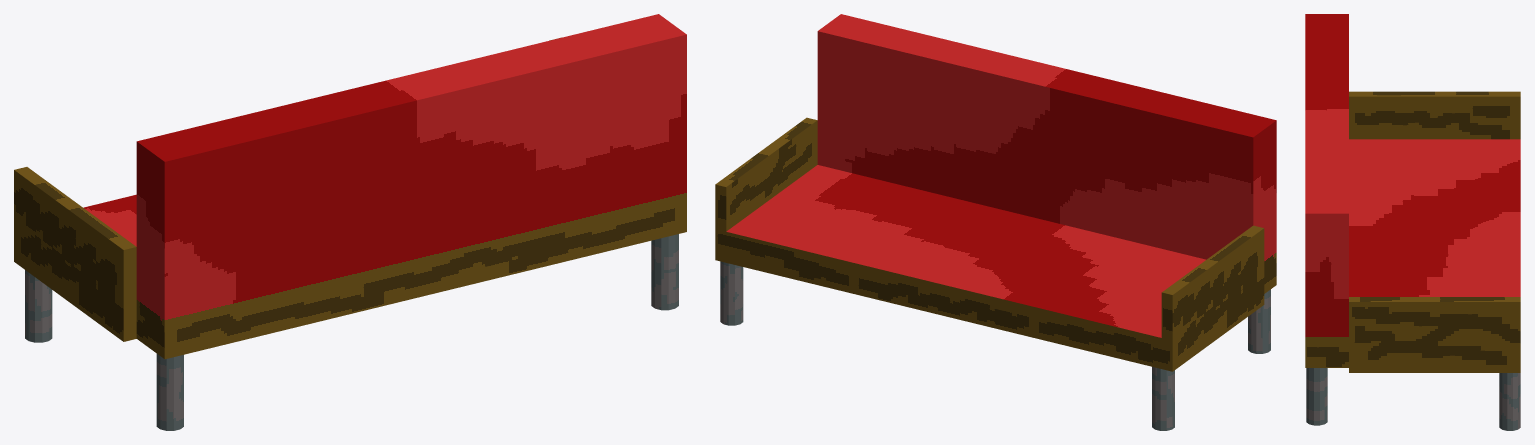
File: LoaferCouch.gltf
3 views of the same model, side by side, from view 1: azimuth 30°, elevation 25°; view 2: azimuth 150°, elevation 25°; view 3: azimuth 270°, elevation 25° (orthographic). The views are drawn at different scales.
Parts seen in each view (by area): view 1: Couch, cylinder (×3); view 2: Couch, cylinder (×3); view 3: Couch, cylinder (×2).
Boxes of the visible parts, <box> form: Couch: <box>14,14,686,359</box>; cylinder (×3): <box>25,234,678,430</box>; Couch: <box>715,14,1276,371</box>; cylinder (×3): <box>720,261,1270,430</box>; Couch: <box>1305,14,1520,372</box>; cylinder (×2): <box>1306,368,1520,430</box>.
Bounding box in the file's own units: 2.89 × 1.37 × 1.26.
1 material, 1 textured.
